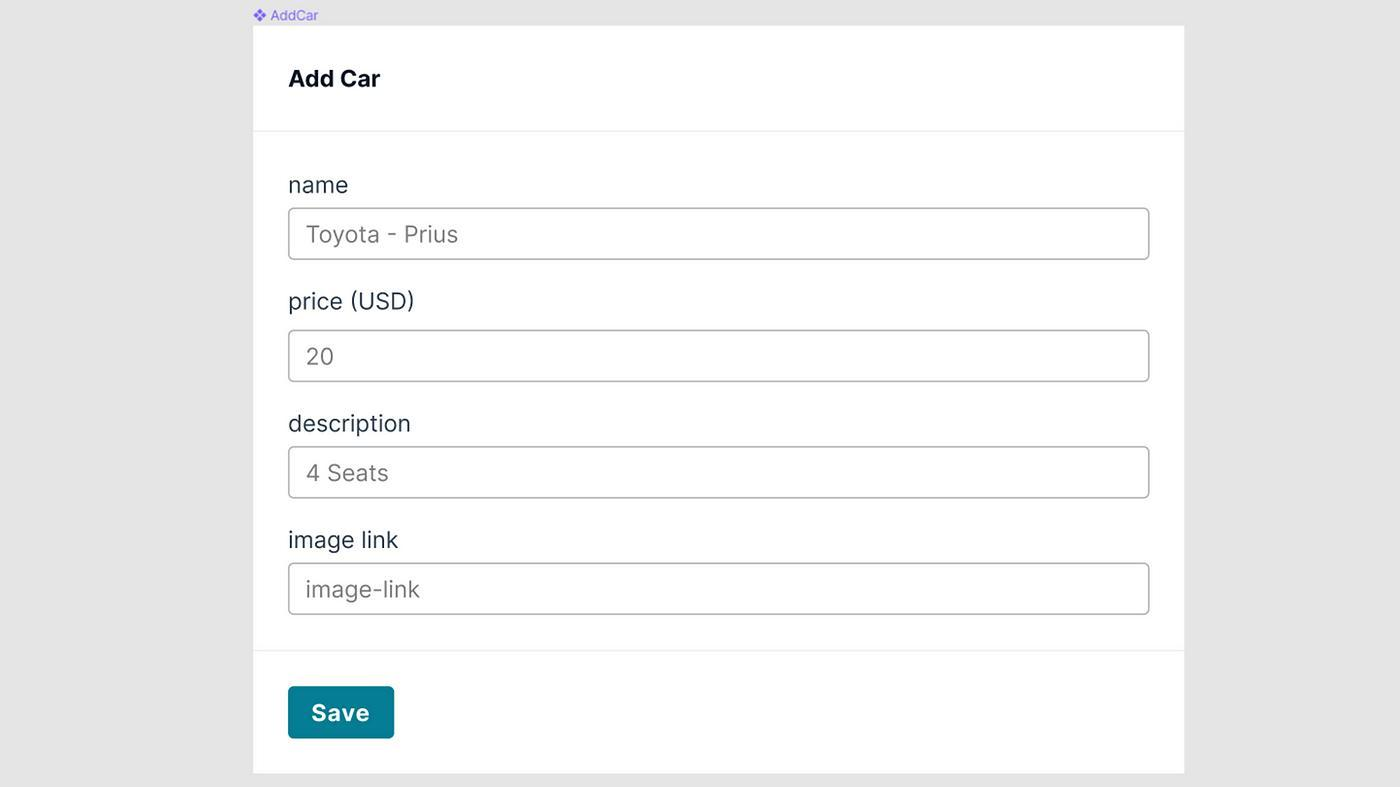button: (288, 685, 398, 742)
input: (289, 206, 1149, 261), (289, 329, 1149, 383), (289, 563, 1151, 616), (291, 448, 1146, 501)
label: (284, 288, 417, 317), (289, 64, 383, 94), (288, 414, 413, 436), (289, 529, 401, 552), (288, 178, 349, 197)
